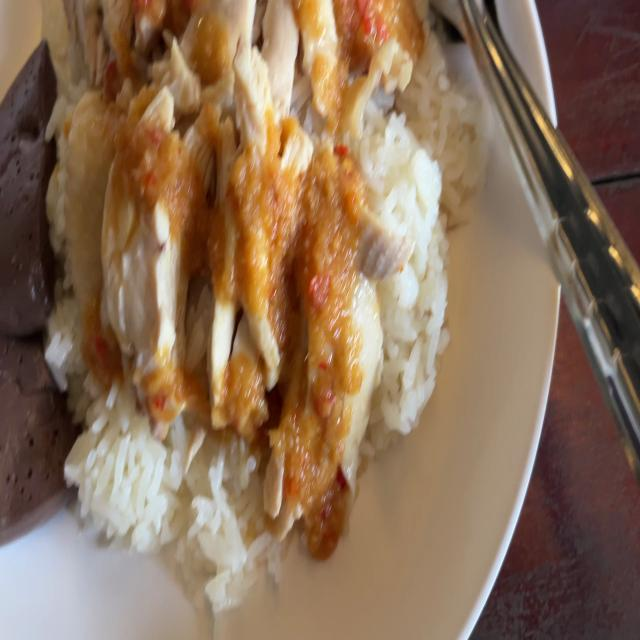chicken_rice: (70, 4, 397, 520)
noodle: (0, 34, 52, 333), (0, 312, 74, 521)
